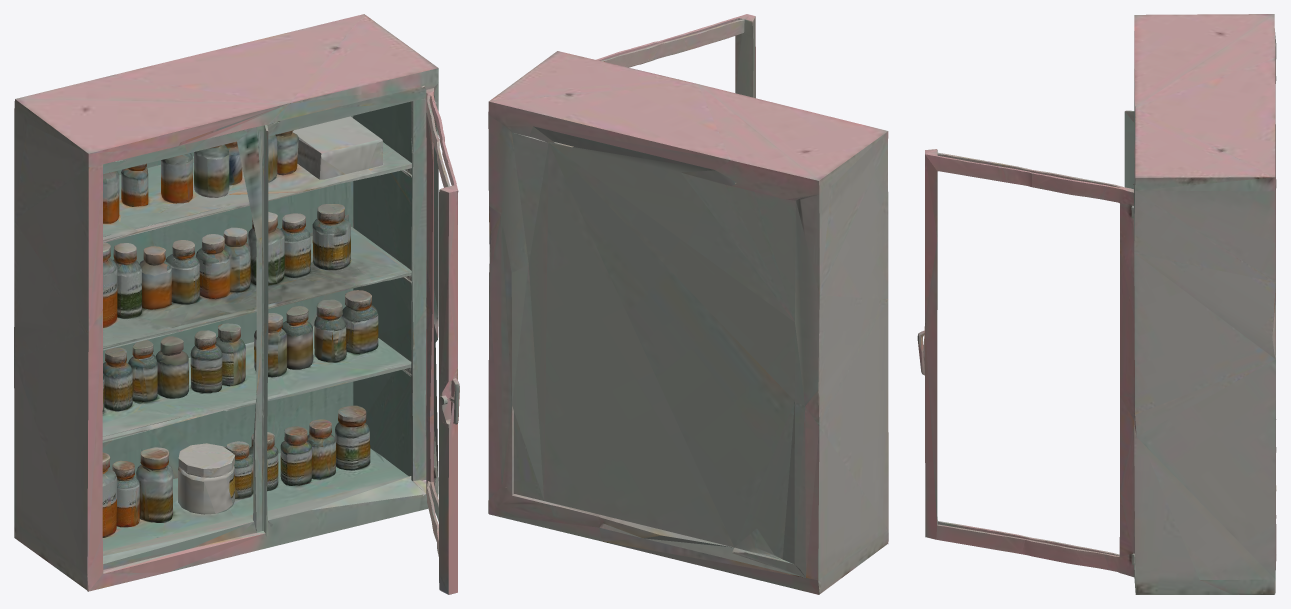
File: armadietto_B.glb
3 renders of one model, left to right at view 1: azimuth 30°, elevation 25°; view 2: azimuth 150°, elevation 25°; view 3: azimuth 270°, elevation 25°, orthographic. The views are drawn at different scales.
Visible parts, largest first — view 1: Mesh_0; view 2: Mesh_0; view 3: Mesh_0.
Part boxes in pixels (x1=…): Mesh_0: x1=14, y1=14, x2=459, y2=594; Mesh_0: x1=488, y1=14, x2=888, y2=594; Mesh_0: x1=917, y1=14, x2=1276, y2=594.
Size of the model in its own units: 0.753 by 0.9 by 0.6995.
1 material, 1 textured.
